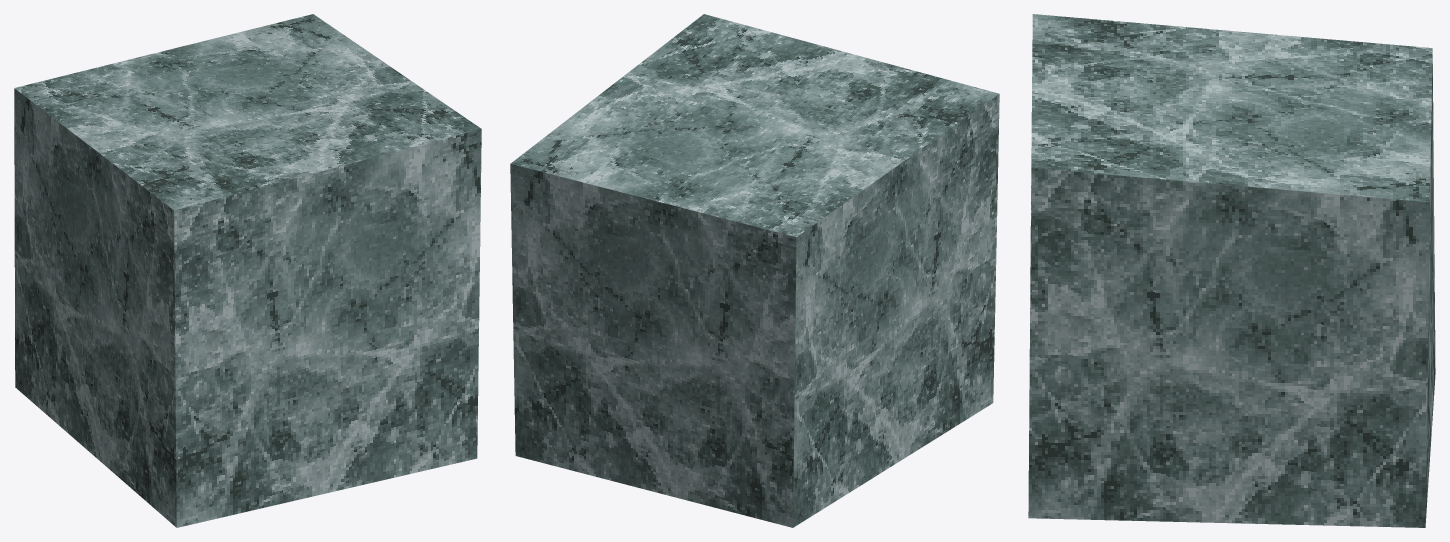
The model's file is HB_Ice_Cube.glb.
The picture shows the model from 3 angles, left to right: view 1: azimuth 30°, elevation 25°; view 2: azimuth 150°, elevation 25°; view 3: azimuth 270°, elevation 25°; orthographic projection. The views are drawn at different scales.
Visible parts, largest first — view 1: HB_Ice_Cube; view 2: HB_Ice_Cube; view 3: HB_Ice_Cube.
Boxes of the visible parts, bbox=[...] form: HB_Ice_Cube: bbox=[14, 14, 481, 527]; HB_Ice_Cube: bbox=[510, 14, 999, 527]; HB_Ice_Cube: bbox=[1028, 14, 1435, 527].
Bounding box in the file's own units: 0.0281 × 0.0272 × 0.0284.
1 material, 1 textured.
